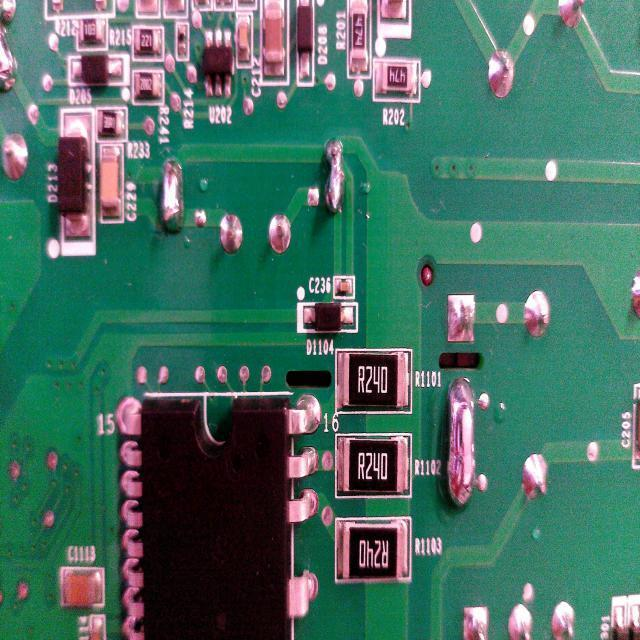Soldering shorted: (445, 374, 478, 512), (158, 159, 188, 240), (322, 133, 348, 220)
